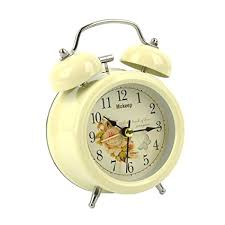alarm_clock: (45, 14, 184, 207), (50, 14, 184, 207)
